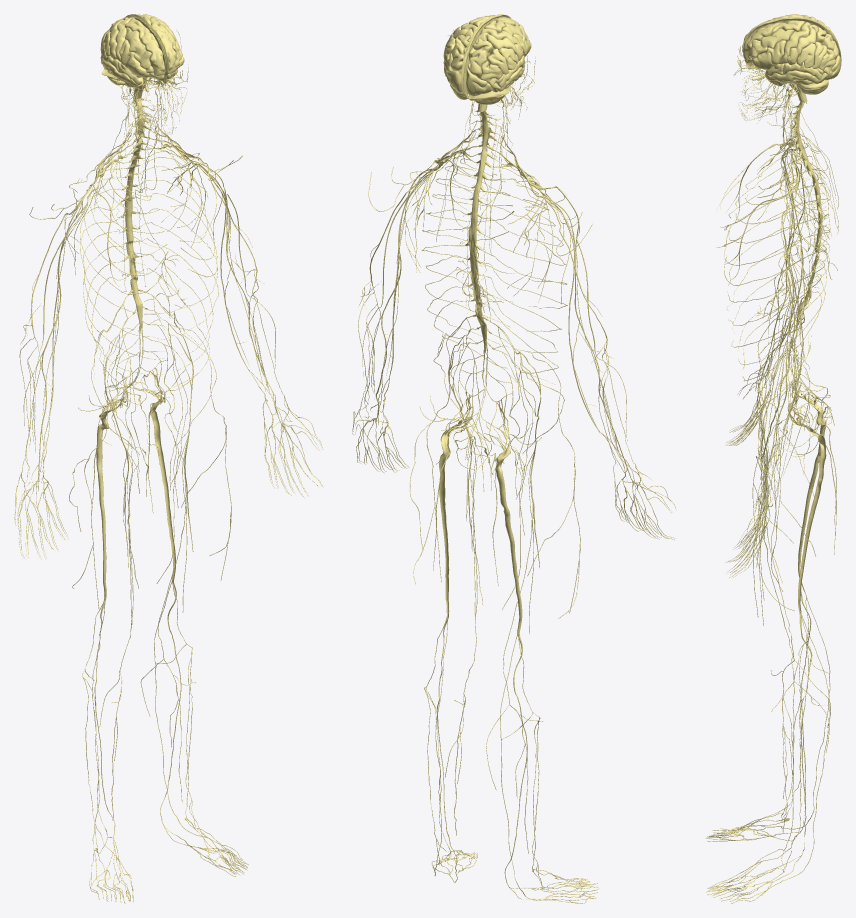
File: nervi.glb
The picture shows the model from 3 angles, left to right: view 1: azimuth 30°, elevation 25°; view 2: azimuth 150°, elevation 25°; view 3: azimuth 270°, elevation 25°; orthographic projection. The views are drawn at different scales.
Parts seen in each view (by area): view 1: ZA0822, ZA0934, ZA0821, ZA0931, ZA0930, FJ1834; view 2: ZA0934, ZA0821, ZA0822, ZA0931, ZA0930, FJ1733, ZA0929, ZA0928; view 3: ZA0821, ZA0822, ZA0934, ZA0930, ZA0931, FJ1833, FJ1787, ZA0928, FJ1744, ZA0792, ZA0929, FJ1732 (+19 smaller).
Boxes of the visible parts, x1,y1,x2,y2 form: ZA0822: (80, 153, 168, 390); ZA0934: (123, 97, 149, 333); ZA0821: (135, 148, 218, 387); ZA0931: (96, 377, 126, 596); ZA0930: (141, 370, 175, 578); FJ1834: (124, 17, 165, 75); ZA0934: (465, 110, 494, 352); ZA0821: (421, 158, 514, 368); ZA0822: (480, 166, 567, 373); ZA0931: (484, 401, 522, 631); ZA0930: (439, 395, 471, 613); FJ1733: (480, 48, 509, 86); ZA0929: (486, 454, 533, 853); ZA0928: (445, 436, 476, 835); ZA0821: (724, 157, 829, 381); ZA0822: (723, 146, 829, 370); ZA0934: (793, 102, 822, 330); ZA0930: (787, 385, 826, 611); ZA0931: (793, 375, 826, 577); FJ1833: (742, 20, 804, 60); FJ1787: (748, 28, 794, 60); ZA0928: (762, 449, 829, 832); FJ1744: (751, 40, 785, 69); ZA0792: (743, 17, 841, 79); ZA0929: (762, 426, 830, 798); FJ1732: (812, 42, 835, 74).
Bounding box in the file's own units: 0.6523 × 1.7 × 0.2475.
